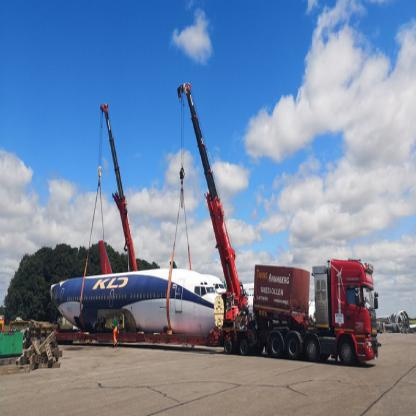CIV_Plane: (46, 264, 227, 343)
